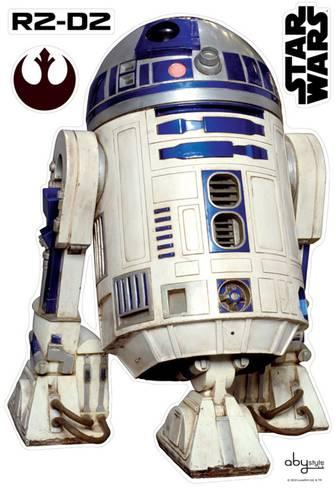r2d2: (20, 18, 325, 455)
